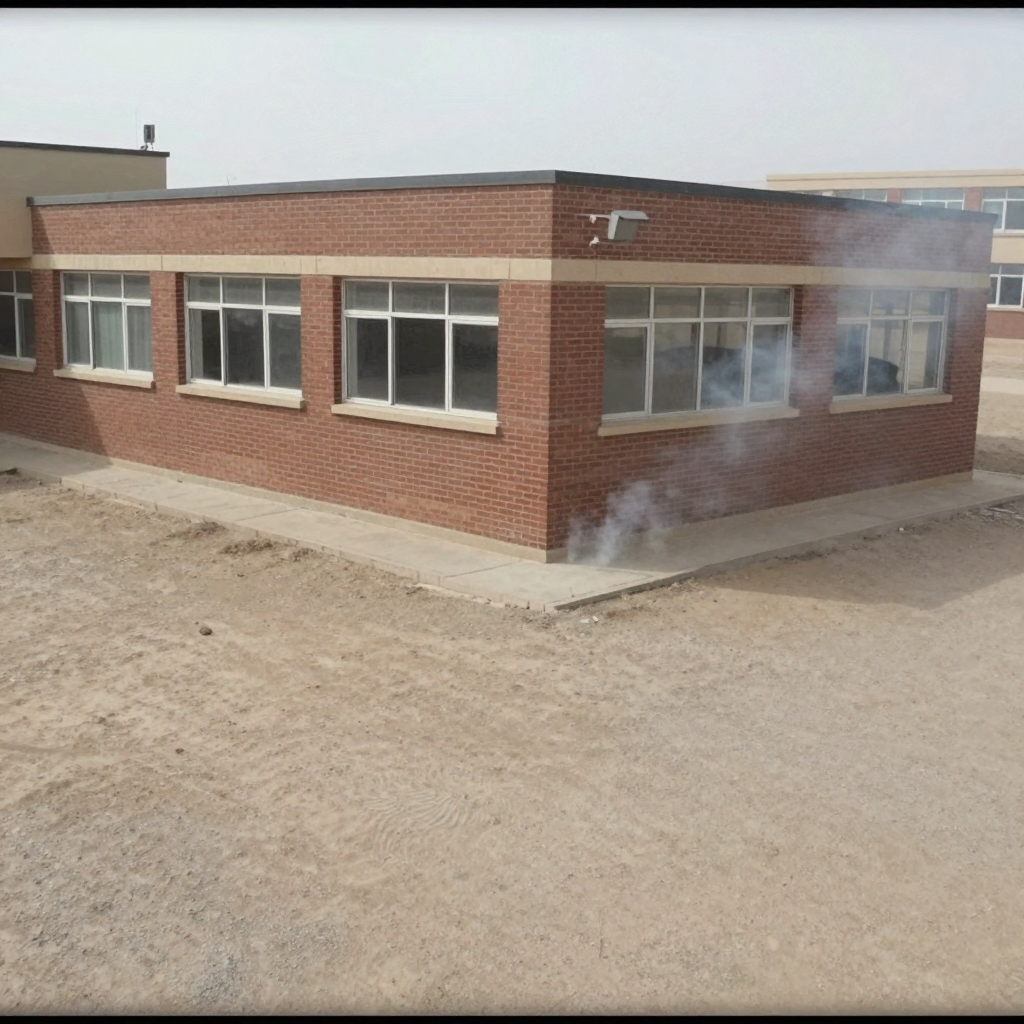Explosion: (579, 139, 1018, 617)
